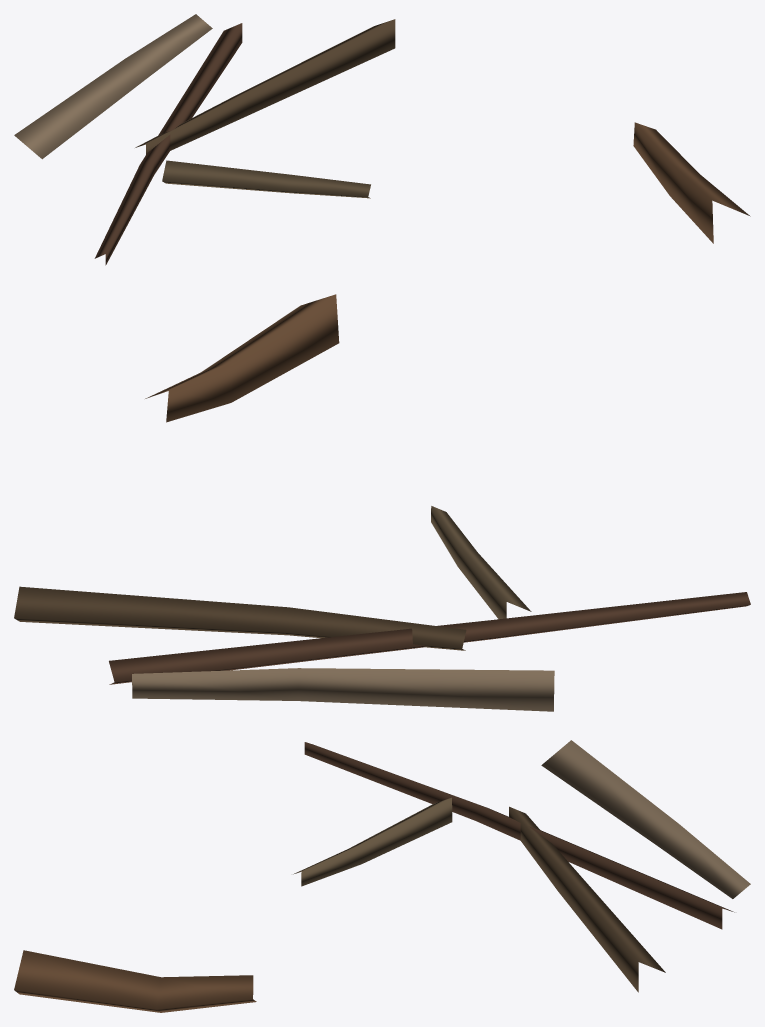
Rendered from twigs-a.lod2.glb.
3 views of the same model, one above another, from view 1: azimuth 30°, elevation 25°; view 2: azimuth 150°, elevation 25°; view 3: azimuth 270°, elevation 25° (orthographic). The views are drawn at different scales.
Size of the model in its own units: 0.5759 by 0.0552 by 0.6502.
